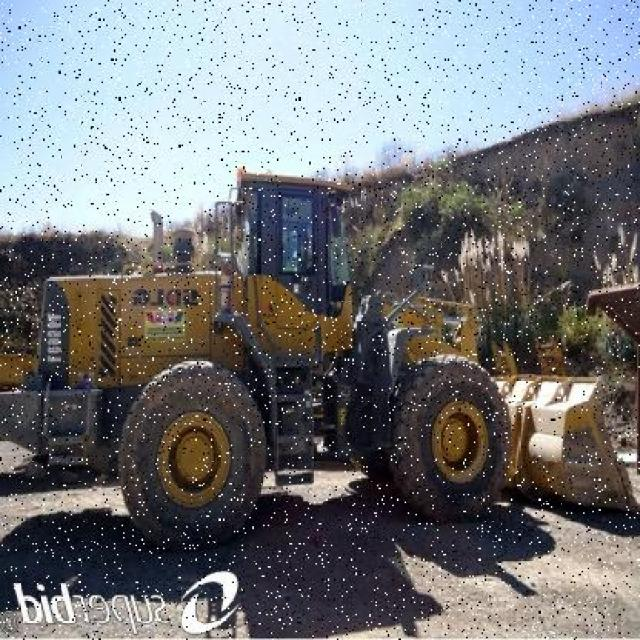buldozerpayloadergrader: (14, 165, 640, 558)
